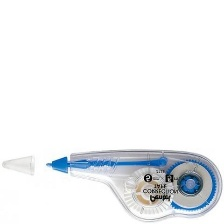correction_fluid: (42, 147, 223, 223)
